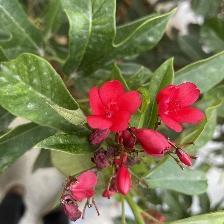jatropha: (88, 79, 144, 137), (156, 83, 203, 132), (136, 125, 175, 159), (67, 173, 99, 202)
